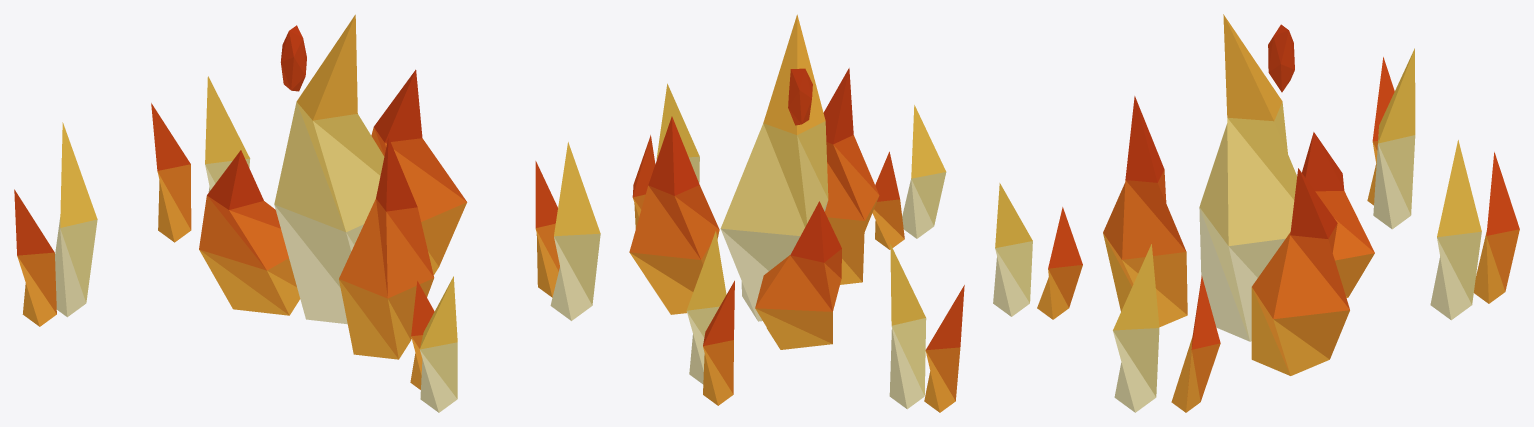
Rendered from flame_c.glb.
The picture shows the model from 3 angles, left to right: view 1: azimuth 30°, elevation 25°; view 2: azimuth 150°, elevation 25°; view 3: azimuth 270°, elevation 25°; orthographic projection. The views are drawn at different scales.
Parts seen in each view (by area): view 1: flame; view 2: flame; view 3: flame.
Boxes of the visible parts, x1,y1,x2,y2 form: flame: (14,14,600,412); flame: (629,14,964,412); flame: (993,14,1519,412).
Size of the model in its own units: 1.55 by 1 by 1.56.
